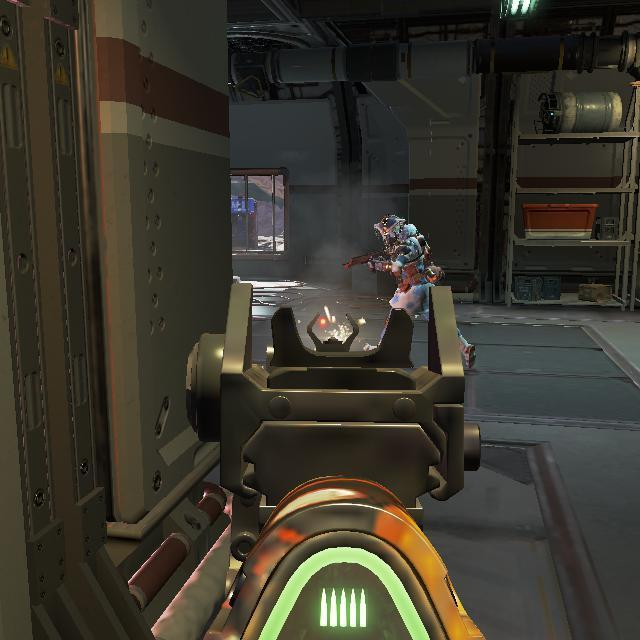avatar: (374, 211, 442, 320)
